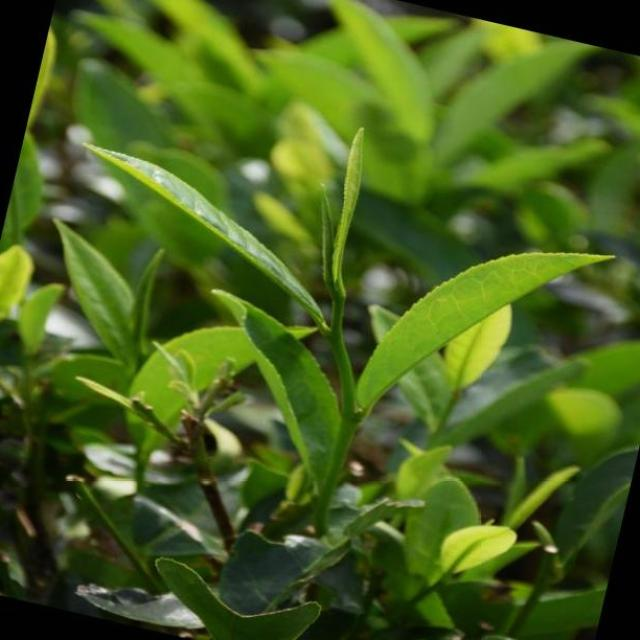Stem: (326, 329, 345, 350)
